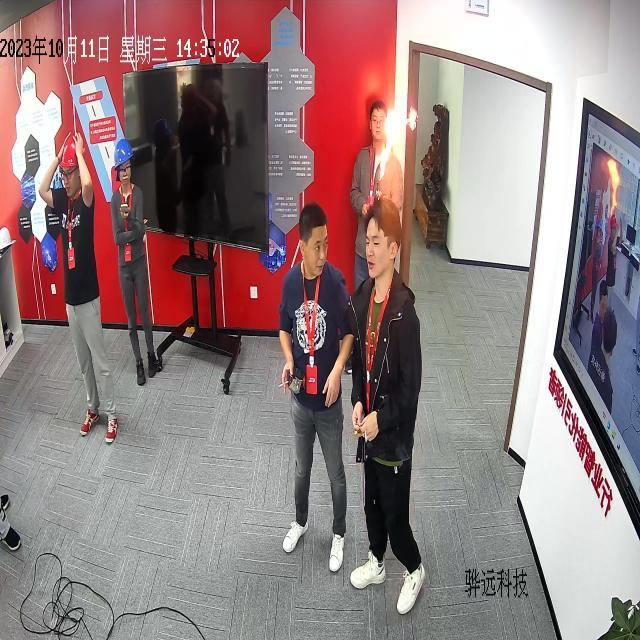Fire: (385, 106, 417, 150)
